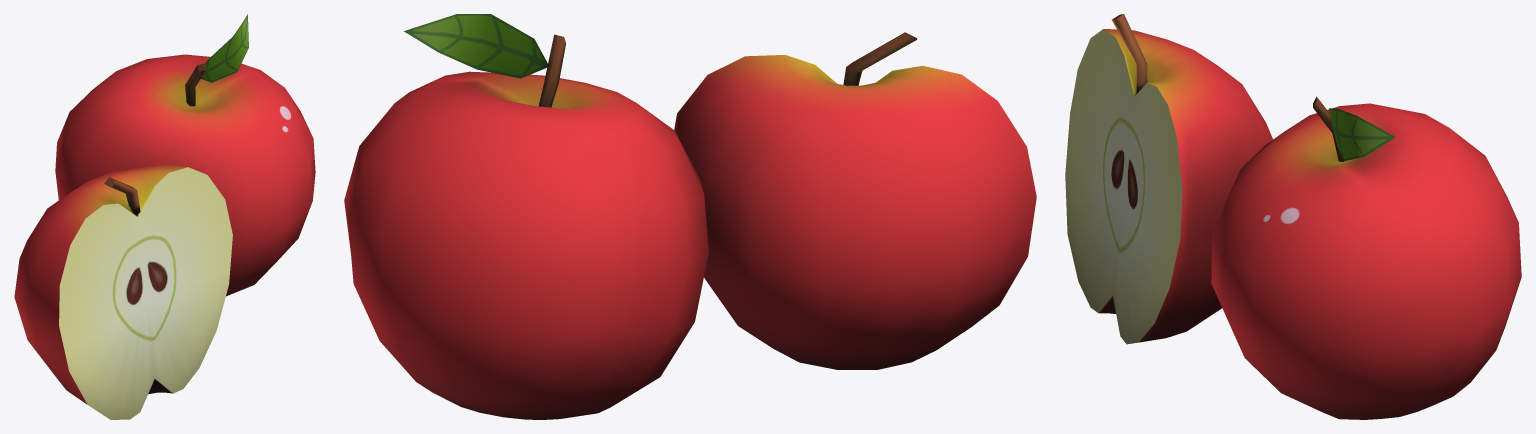
The model's file is Apple.fbx.
3 views of the same model, side by side, from view 1: azimuth 30°, elevation 25°; view 2: azimuth 150°, elevation 25°; view 3: azimuth 270°, elevation 25° (orthographic). The views are drawn at different scales.
Visible parts, largest first — view 1: 047; view 2: 047; view 3: 047.
Part boxes in pixels (x1,y1,x2,y2): 047: (14, 14, 315, 419); 047: (344, 14, 1036, 419); 047: (1065, 14, 1521, 419).
Size of the model in its own units: 41.02 by 28.14 by 35.8.
Materials: 1 (1 with a texture image).
